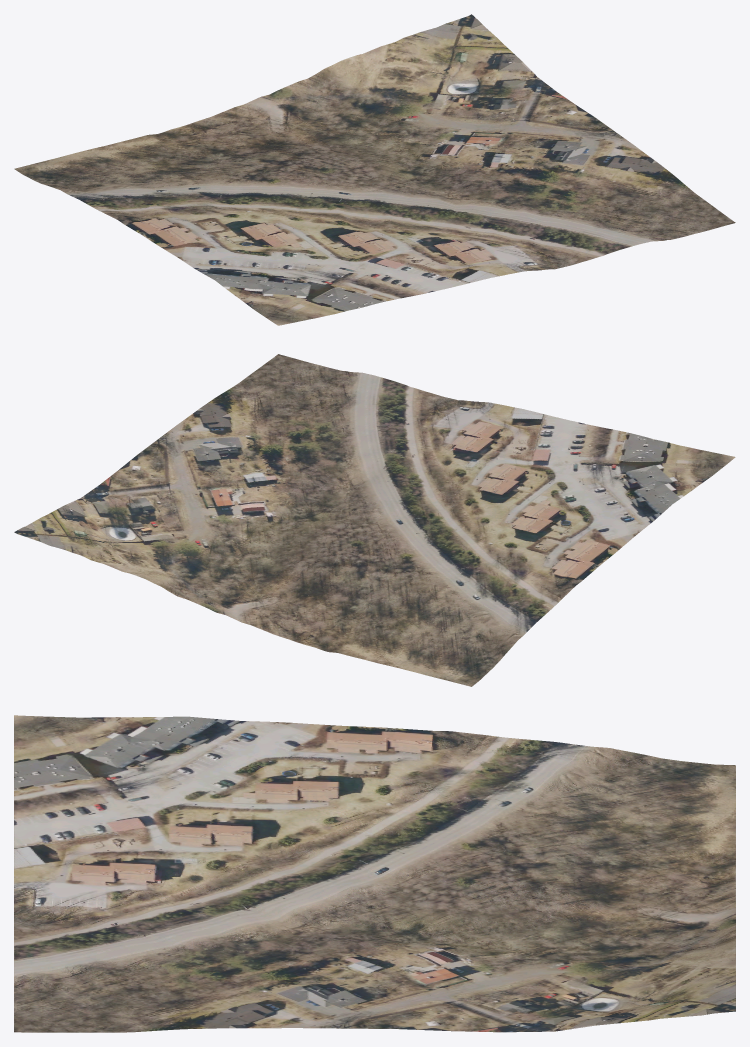
Rendered from CM_Terrain_24492302_6818565.fbx.
3 views of the same model, one above another, from view 1: azimuth 30°, elevation 25°; view 2: azimuth 150°, elevation 25°; view 3: azimuth 270°, elevation 25° (orthographic). The views are drawn at different scales.
Visible parts, largest first — view 1: CM_Terrain_24492302_6818565_LOD0; view 2: CM_Terrain_24492302_6818565_LOD0; view 3: CM_Terrain_24492302_6818565_LOD0.
Part boxes in pixels (x1,y1,x2,y2): CM_Terrain_24492302_6818565_LOD0: (14,14,735,325); CM_Terrain_24492302_6818565_LOD0: (14,354,735,686); CM_Terrain_24492302_6818565_LOD0: (14,715,735,1032).
Size of what is drawn, in the model's own units: 205 by 18.54 by 205.
